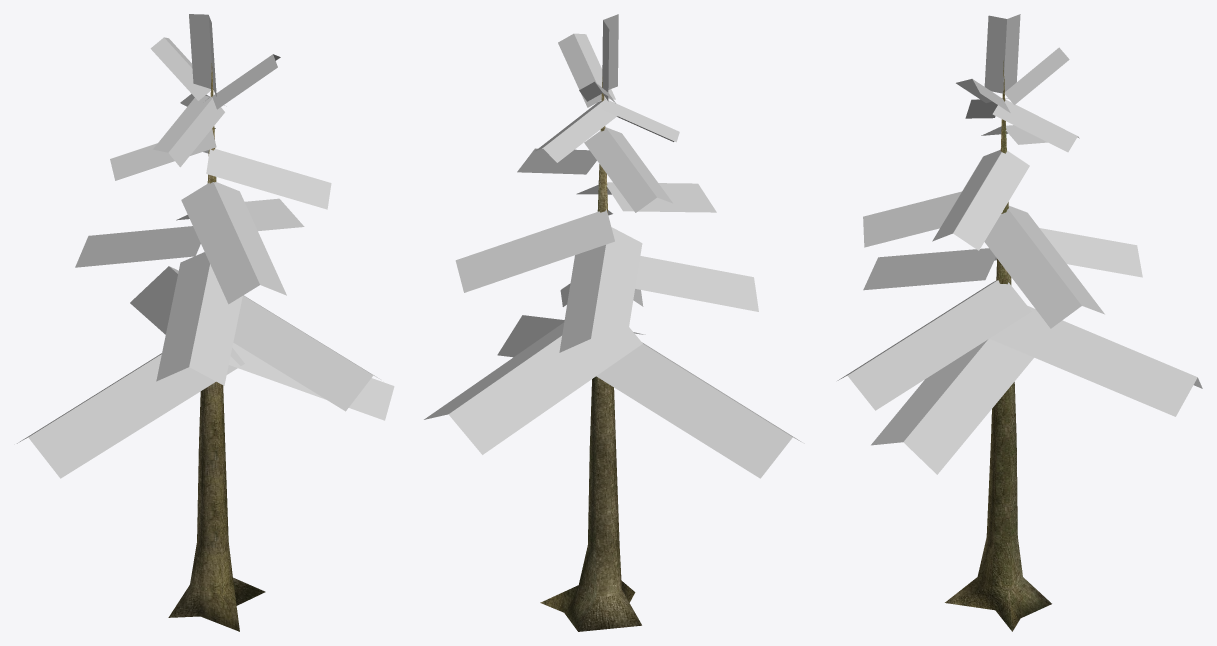
File: Tree_5.fbx
3 views of the same model, side by side, from view 1: azimuth 30°, elevation 25°; view 2: azimuth 150°, elevation 25°; view 3: azimuth 270°, elevation 25° (orthographic).
Visible parts, largest first — view 1: Tree_5; view 2: Tree_5; view 3: Tree_5.
Part boxes in pixels (box(x1,y1,x2,y2)): Tree_5: box(17, 14, 394, 631); Tree_5: box(424, 14, 804, 631); Tree_5: box(837, 14, 1202, 631).
Size of the model in its own units: 446 by 778 by 444.
